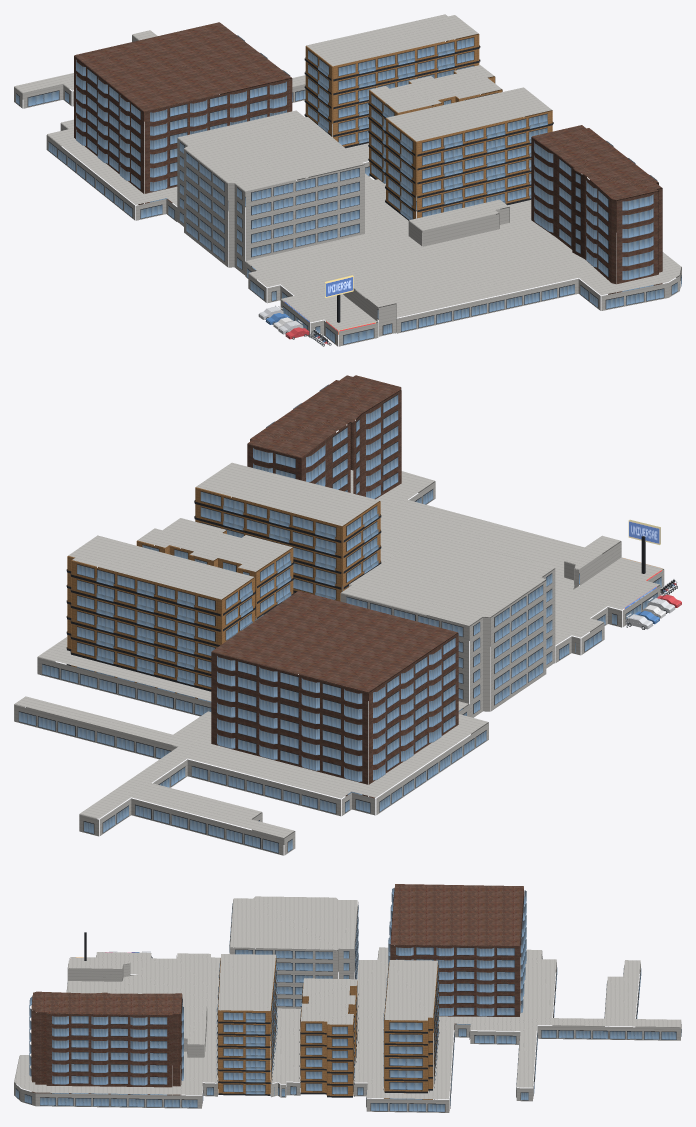
The model's file is esquina_ak15.glb.
3 renders of one model, top to bottom at view 1: azimuth 30°, elevation 25°; view 2: azimuth 150°, elevation 25°; view 3: azimuth 270°, elevation 25°, orthographic. The views are drawn at different scales.
Parts seen in each view (by area): view 1: Esquina_Ak15_PBR; view 2: Esquina_Ak15_PBR; view 3: Esquina_Ak15_PBR.
Boxes of the visible parts, x1=… form: Esquina_Ak15_PBR: x1=14, y1=14, x2=681, y2=346; Esquina_Ak15_PBR: x1=14, y1=375, x2=681, y2=855; Esquina_Ak15_PBR: x1=14, y1=884, x2=681, y2=1112.
Bounding box in the file's own units: 85.19 × 21.89 × 154.
14 materials, 8 textured.
